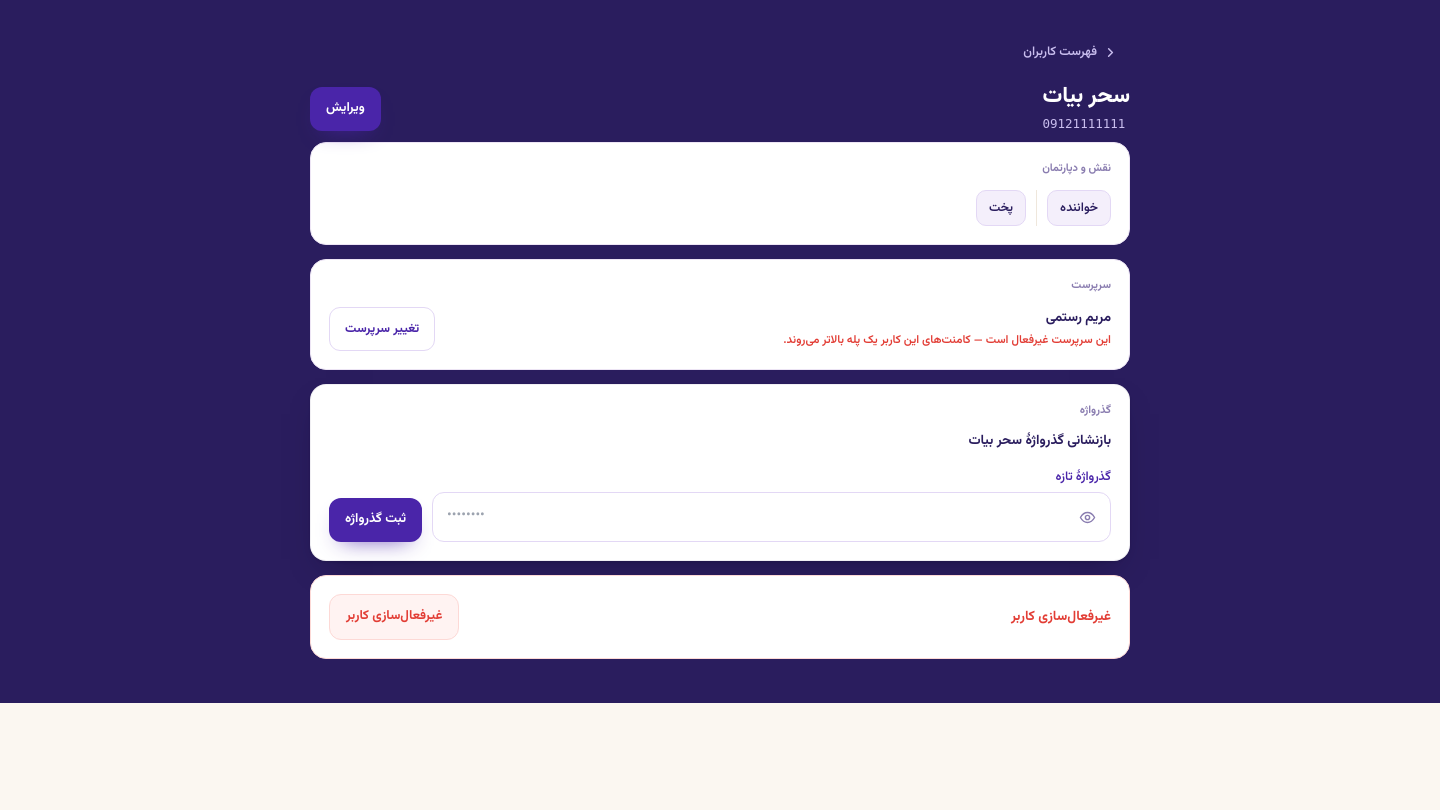
Scenario: what the edit form sends › offers no way to clear the role, because `roleId: null` is a refusal (R5)
Click the button "ویرایش". click: click(345, 109)
box: [310,87,381,131]
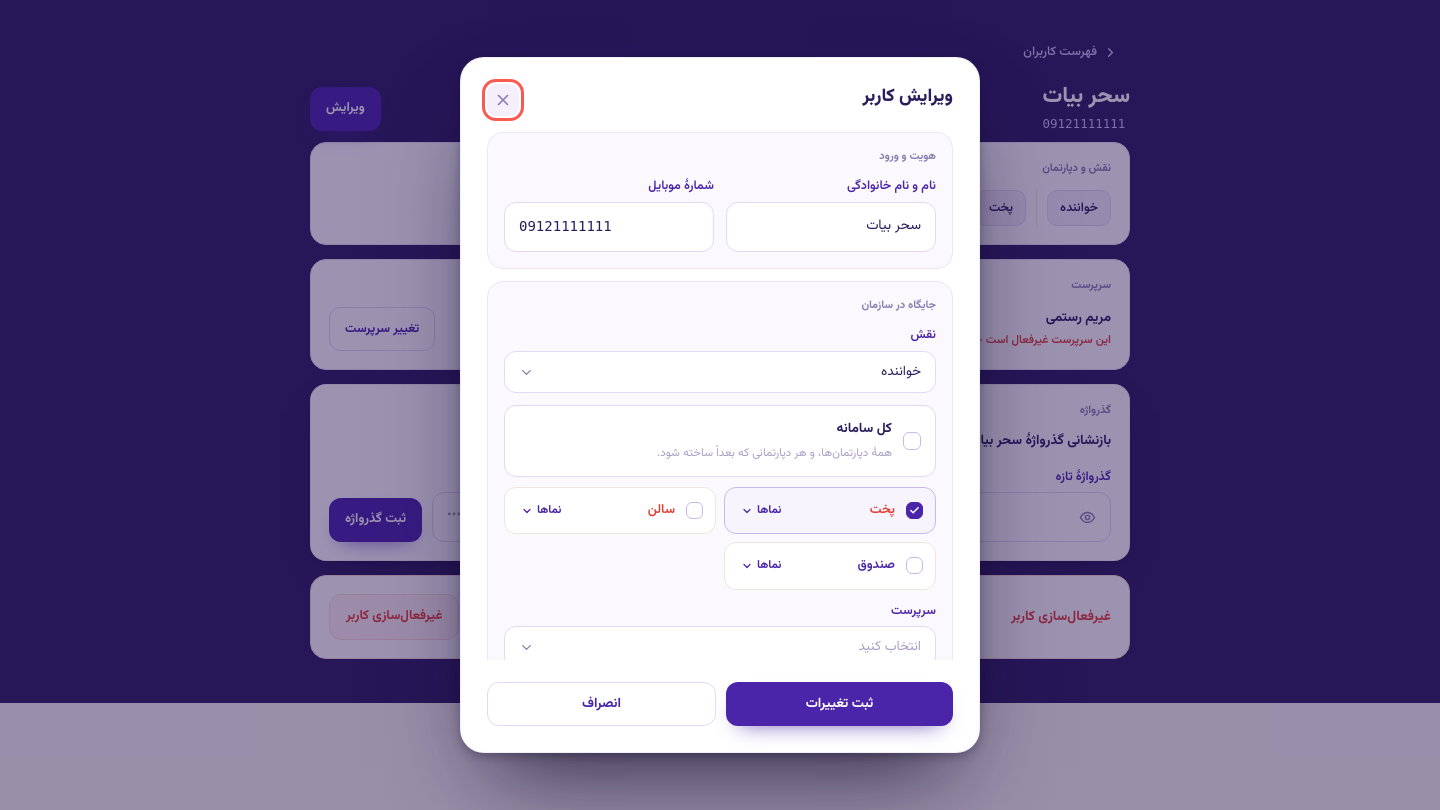
Check: the dialog is shown, box [460,57,980,753]
Check: the checkbox labelled "سالن" is shown, box [504,487,716,534]
Click the button named "نقش". click: click(901, 372)
box: [504,351,936,393]
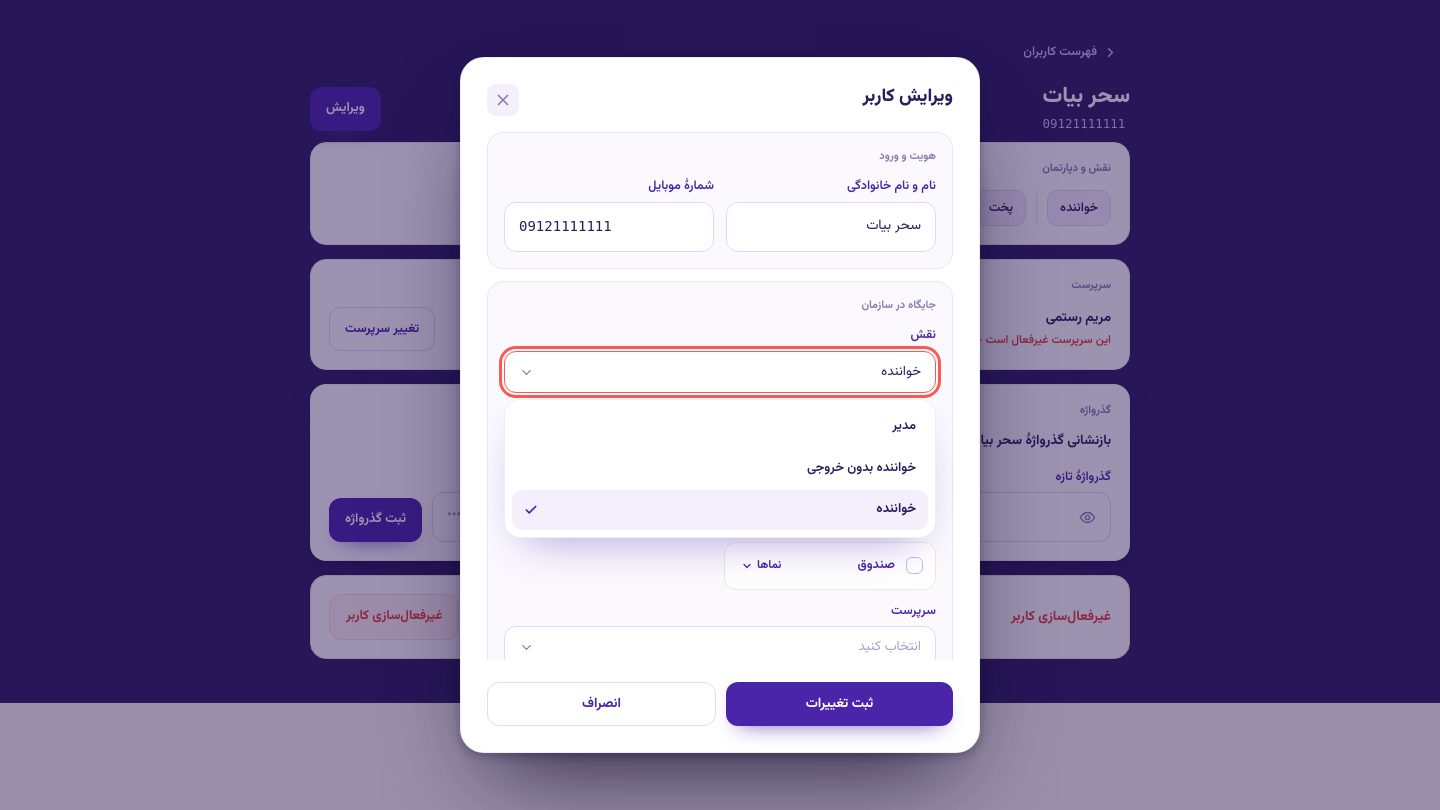
Check: the option does not show ""
Check: the number of options is 3, box [512,407,928,447]; [512,449,928,488]; [512,490,928,530]
